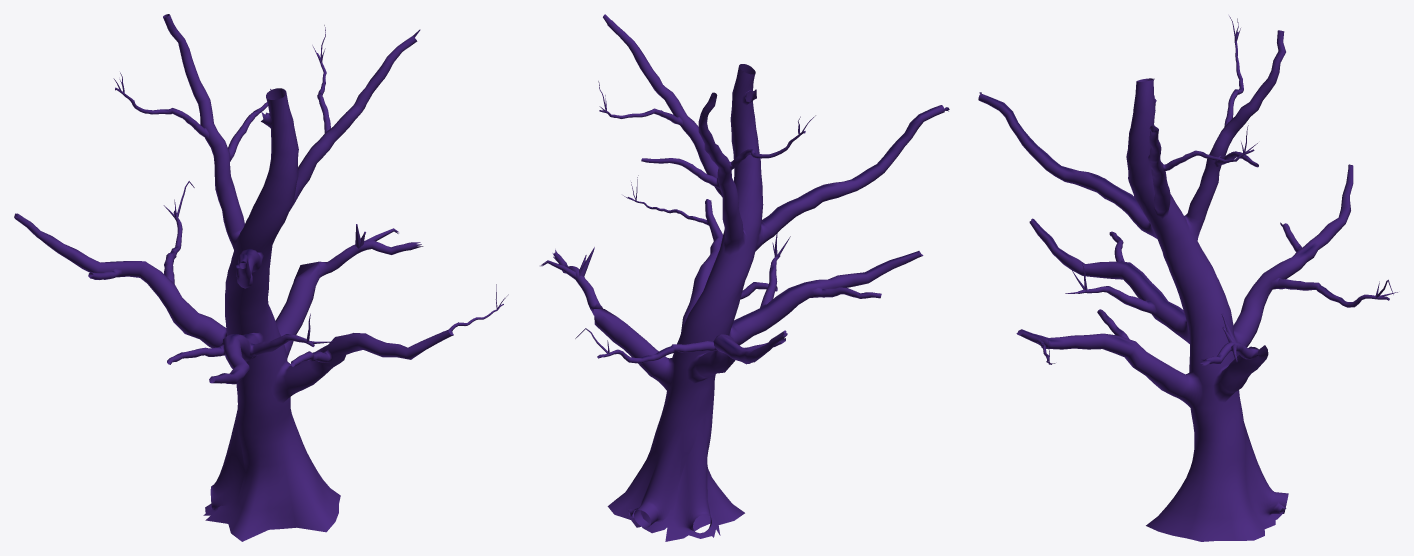
File: SmallTreeHigh.obj
3 renders of one model, left to right at view 1: azimuth 30°, elevation 25°; view 2: azimuth 150°, elevation 25°; view 3: azimuth 270°, elevation 25°, orthographic. The views are drawn at different scales.
Visible parts, largest first — view 1: TreeLoisSimple.001; view 2: TreeLoisSimple.001; view 3: TreeLoisSimple.001.
Boxes of the visible parts, box(x1,y1,x2,y2) form: TreeLoisSimple.001: box(14, 14, 508, 541); TreeLoisSimple.001: box(540, 14, 949, 541); TreeLoisSimple.001: box(978, 16, 1397, 541).
Bounding box in the file's own units: 3.25 × 4.59 × 3.78.
